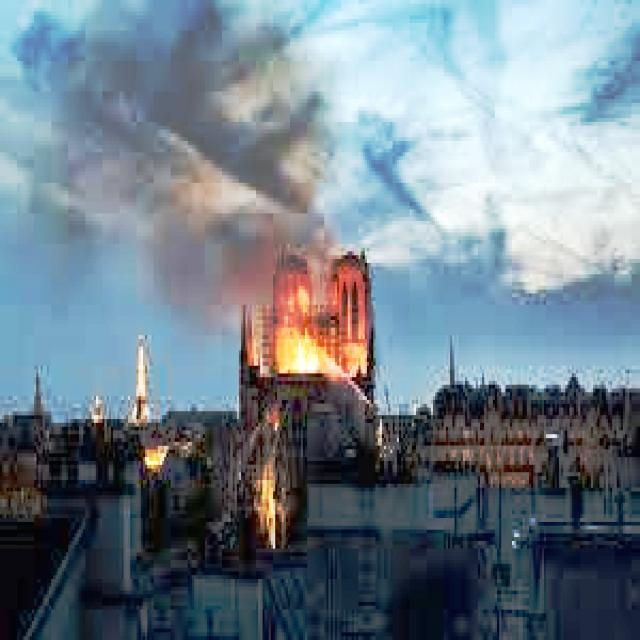api: (281, 321, 326, 382)
